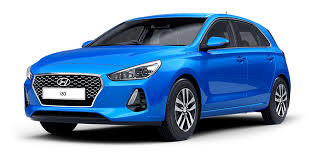car: (13, 10, 306, 152)
